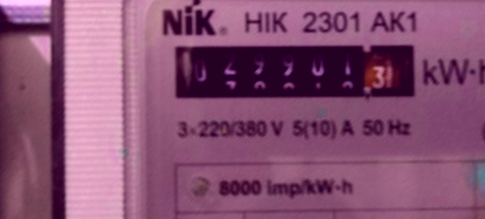0: (190, 55, 208, 82), (309, 48, 325, 77)
1: (340, 47, 353, 75)
2: (220, 49, 238, 76)
3: (369, 62, 386, 88)
9: (250, 48, 266, 76), (281, 49, 294, 76)
screen: (165, 34, 425, 107)
